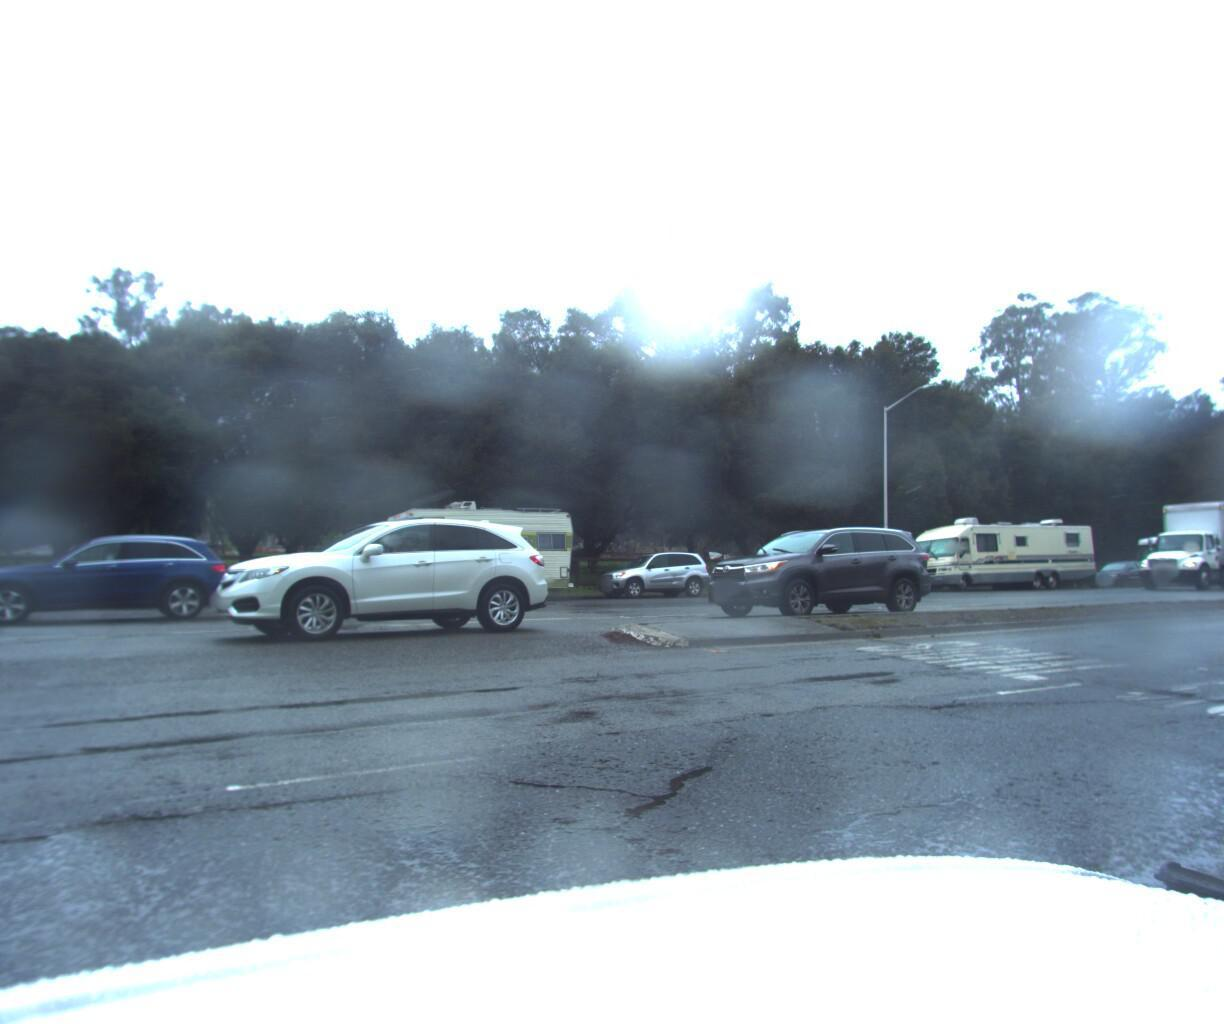car: (190, 502, 570, 644), (686, 520, 942, 620), (0, 531, 229, 625), (586, 547, 716, 599), (1072, 556, 1160, 587)
other_vehicle: (362, 496, 580, 605), (888, 509, 1098, 592)
truck: (1114, 492, 1224, 590)
